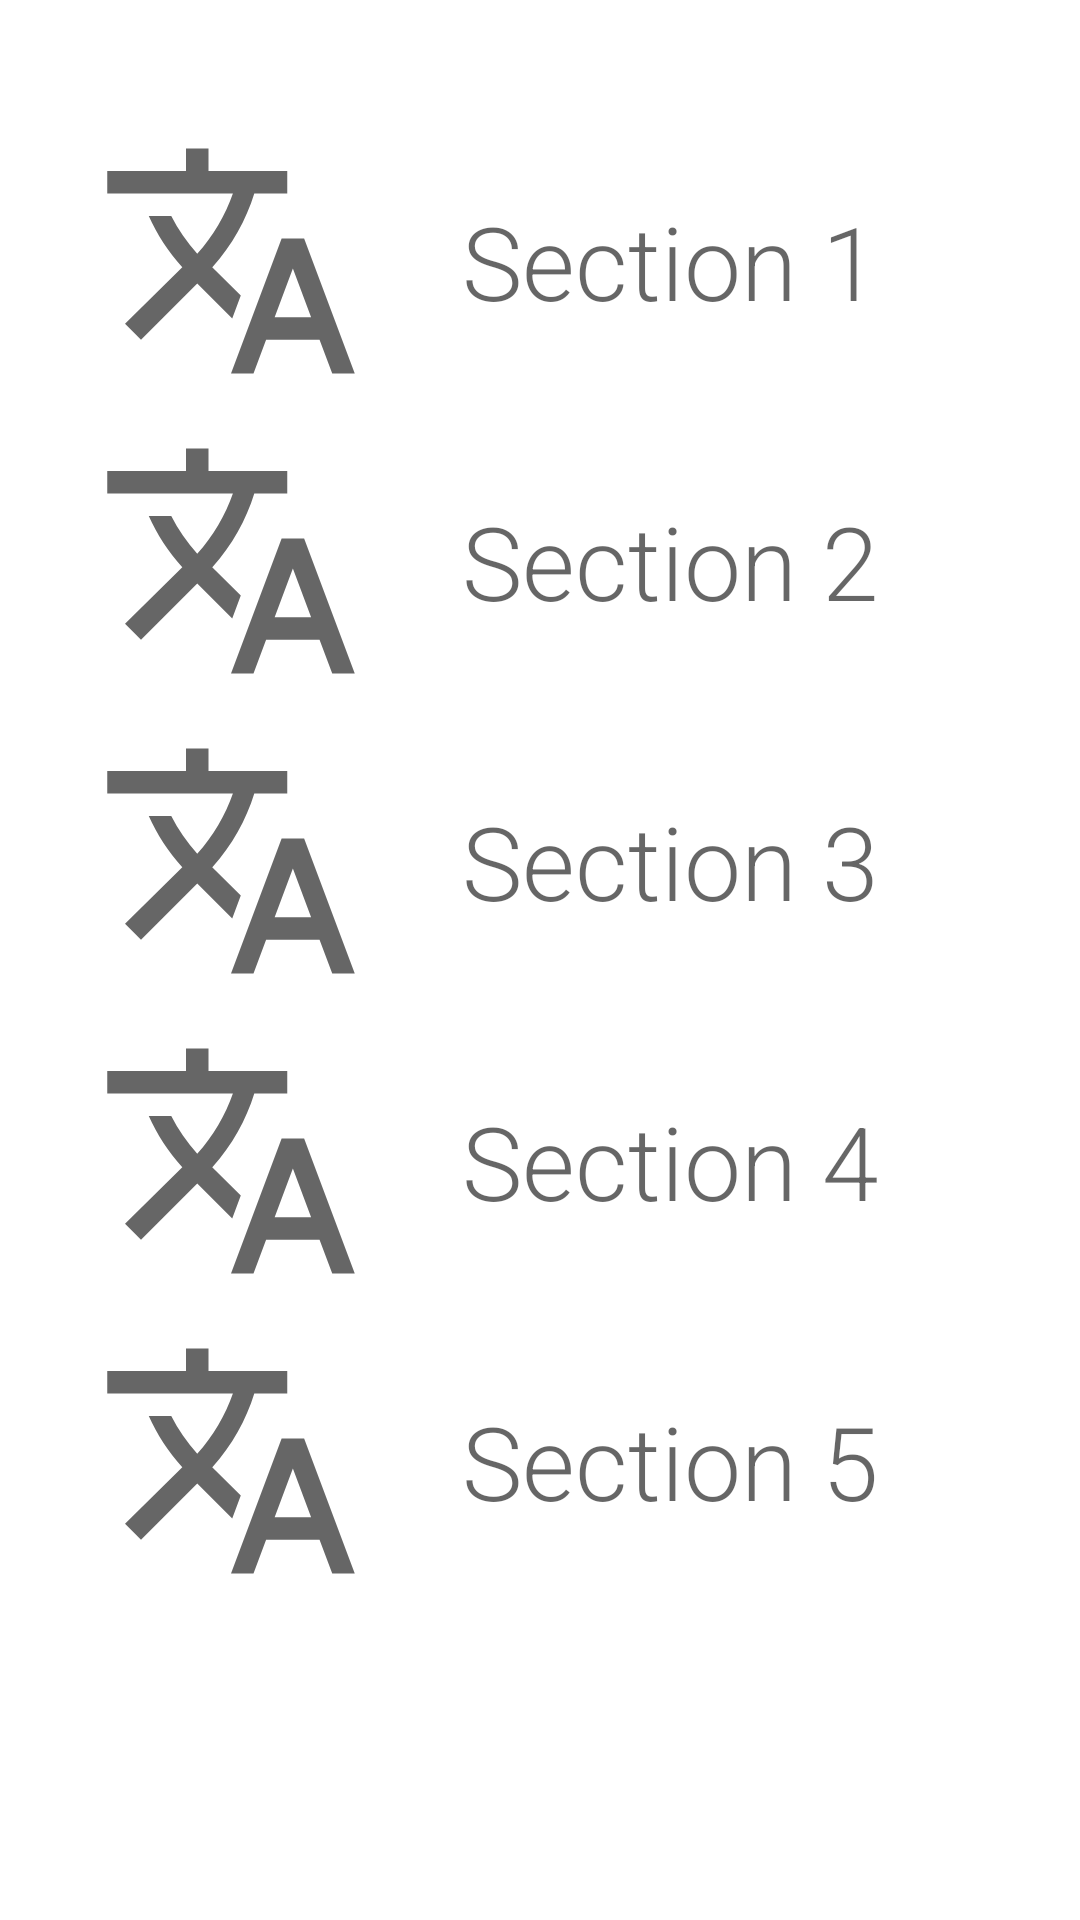

Where icons sit on this 1080px×1920px app screen, as (x1, y1, x2, y2):
translate: (107, 148, 355, 374), (107, 448, 355, 674), (107, 748, 355, 974), (107, 1048, 355, 1274), (107, 1348, 355, 1574)
